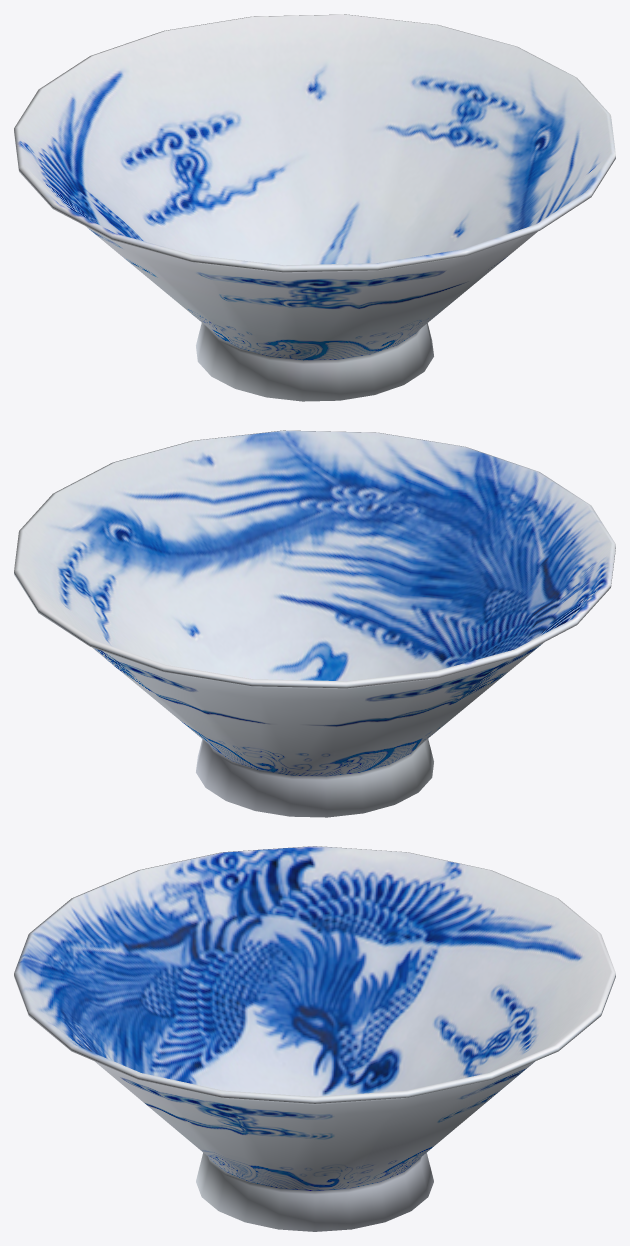
The model's file is wan03_01.FBX.
3 renders of one model, top to bottom at view 1: azimuth 30°, elevation 25°; view 2: azimuth 150°, elevation 25°; view 3: azimuth 270°, elevation 25°, orthographic.
Parts seen in each view (by area): view 1: pCylinder2; view 2: pCylinder2; view 3: pCylinder2.
Part boxes in pixels (<box>): pCylinder2: <box>14,14,615,401</box>; pCylinder2: <box>14,430,615,817</box>; pCylinder2: <box>14,846,615,1231</box>.
Size of the model in its own units: 124 by 47.87 by 124.
